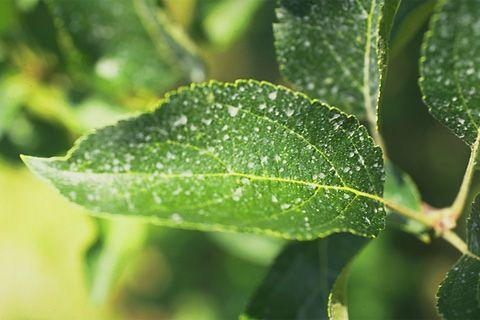Apple Scab Leaf: (16, 75, 408, 247)
